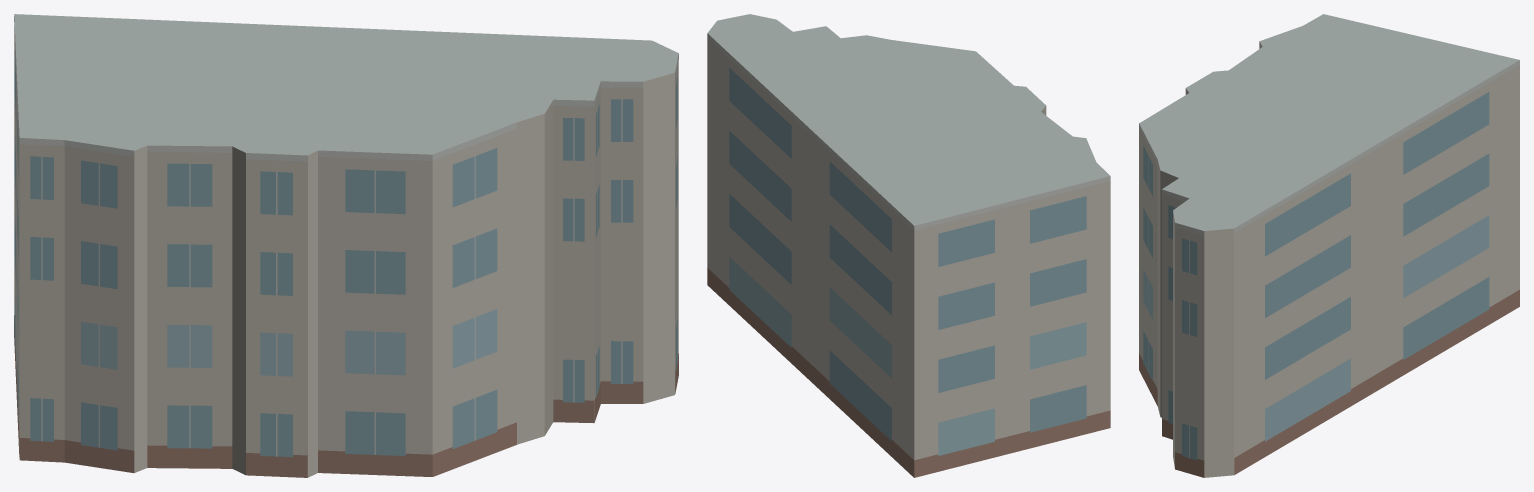
The model's file is survey-upis-32631093.glb.
The picture shows the model from 3 angles, left to right: view 1: azimuth 30°, elevation 25°; view 2: azimuth 150°, elevation 25°; view 3: azimuth 270°, elevation 25°; orthographic projection. The views are drawn at different scales.
Visible parts, largest first — view 1: survey-upis-32631093.tmp; view 2: survey-upis-32631093.tmp; view 3: survey-upis-32631093.tmp.
Boxes of the visible parts, x1,y1,x2,y2 form: survey-upis-32631093.tmp: [14, 14, 678, 477]; survey-upis-32631093.tmp: [707, 14, 1110, 477]; survey-upis-32631093.tmp: [1139, 14, 1519, 477].
Bounding box in the file's own units: 23.97 × 12.7 × 17.76.
